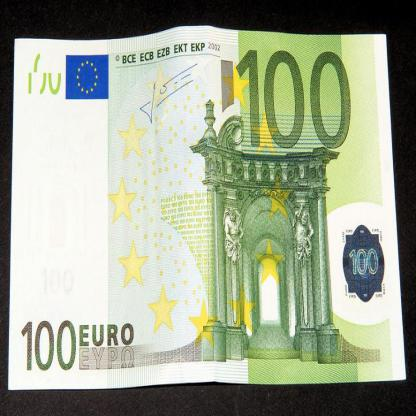euro_banknote: (10, 27, 408, 391)
